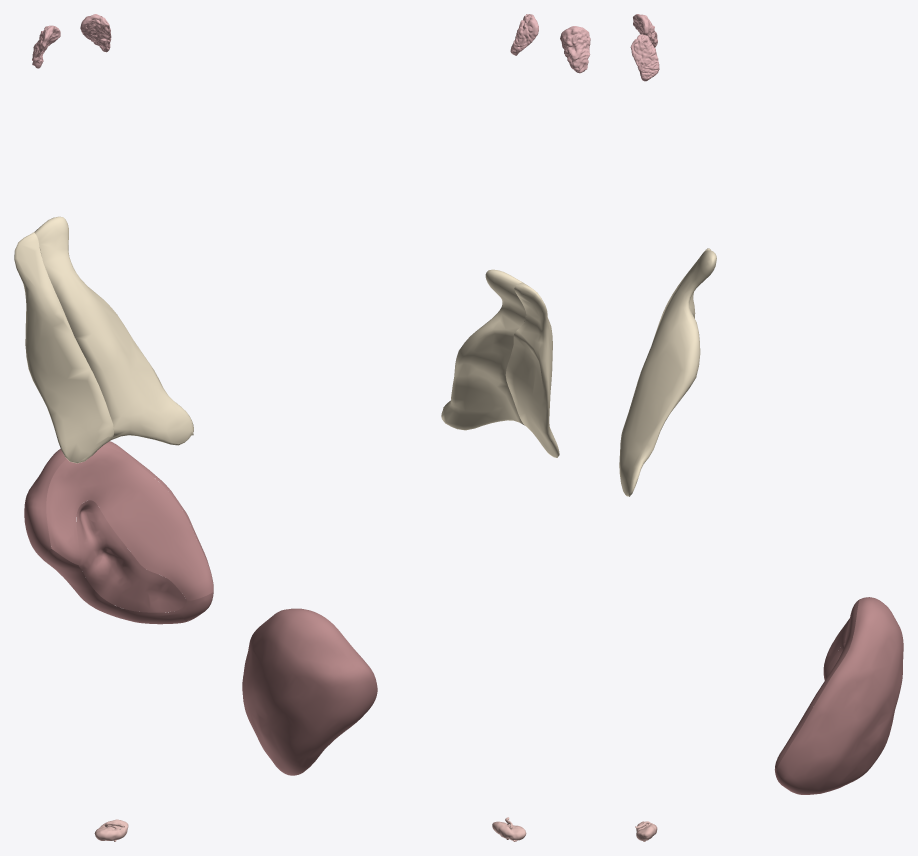
Rendered from lymphatic.glb.
3 renders of one model, left to right at view 1: azimuth 30°, elevation 25°; view 2: azimuth 150°, elevation 25°; view 3: azimuth 270°, elevation 25°, orthographic. The views are drawn at different scales.
Parts seen in each view (by area): view 1: gastric-surface-of-spleen, left-thymus-lobe, right-thymus-lobe, hilum-of-spleen, diaphragmatic-surface-of-spleen, renal-surface-of-spleen, left-palatine-tonsil, right-palatine-tonsil, colic-surface-of-spleen, capsule-of-lymph-node; view 2: diaphragmatic-surface-of-spleen, left-thymus-lobe, right-thymus-lobe, right-palatine-tonsil, left-palatine-tonsil; view 3: diaphragmatic-surface-of-spleen, left-thymus-lobe, gastric-surface-of-spleen, left-palatine-tonsil.
Boxes of the visible parts, x1,y1,x2,y2 form: gastric-surface-of-spleen: (46, 446, 213, 600); left-thymus-lobe: (34, 216, 193, 445); right-thymus-lobe: (14, 232, 113, 463); hilum-of-spleen: (76, 500, 186, 612); diaphragmatic-surface-of-spleen: (24, 441, 213, 624); renal-surface-of-spleen: (42, 549, 185, 624); left-palatine-tonsil: (80, 14, 111, 52); right-palatine-tonsil: (32, 25, 60, 68); colic-surface-of-spleen: (179, 592, 213, 621); capsule-of-lymph-node: (94, 819, 128, 840); diaphragmatic-surface-of-spleen: (242, 608, 377, 775); left-thymus-lobe: (441, 269, 526, 430); right-thymus-lobe: (505, 282, 559, 457); right-palatine-tonsil: (560, 26, 590, 73); left-palatine-tonsil: (510, 14, 538, 55); diaphragmatic-surface-of-spleen: (776, 597, 903, 794); left-thymus-lobe: (619, 250, 716, 496); gastric-surface-of-spleen: (775, 600, 859, 768); left-palatine-tonsil: (630, 34, 659, 81).
Bounding box in the file's own units: 0.1546 × 0.484 × 0.1565.
